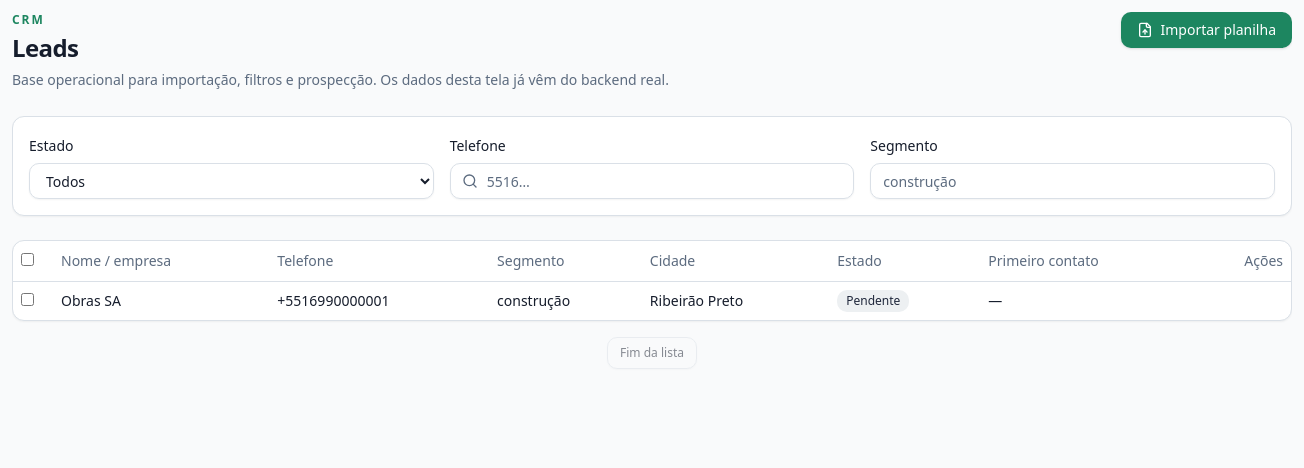
Test: LeadsRoute › sem prospecção no deploy, a ação de disparo não fica acionável
Click the checkbox named "Selecionar +5516990000001" at point(28, 299), box [21, 292, 34, 306]
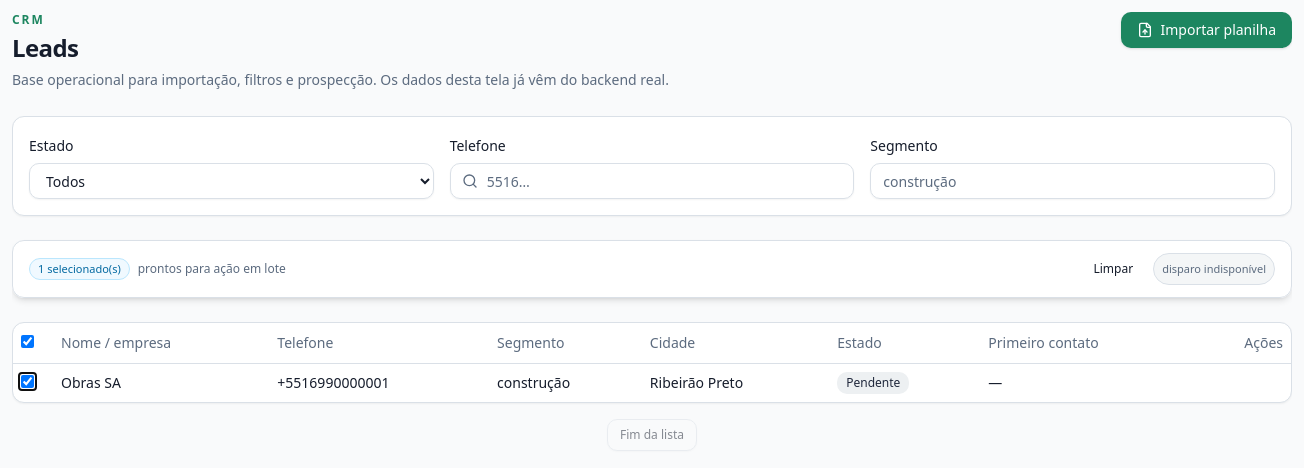
Now the text "disparo indisponível" is shown, box [1153, 253, 1275, 285]
